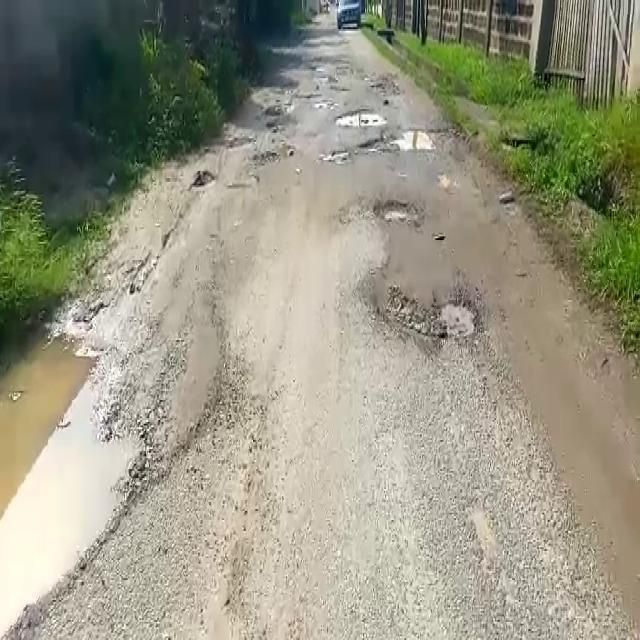pothole: (1, 330, 144, 638), (389, 297, 481, 340), (389, 128, 444, 154), (374, 198, 418, 223), (335, 109, 389, 126)
